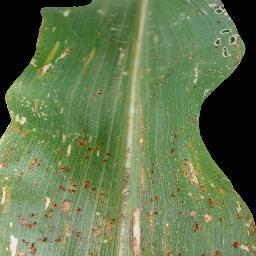Corn_Common_Rust: (0, 152, 256, 256), (2, 45, 63, 131), (204, 0, 252, 66), (0, 130, 105, 152), (166, 120, 217, 152), (111, 22, 129, 80), (34, 6, 75, 31), (170, 0, 197, 25), (80, 42, 99, 74), (151, 65, 174, 89), (189, 50, 202, 91), (138, 98, 147, 148), (136, 63, 150, 84), (92, 5, 113, 18), (151, 28, 163, 46), (62, 45, 77, 59), (203, 84, 213, 102), (96, 86, 107, 98)
